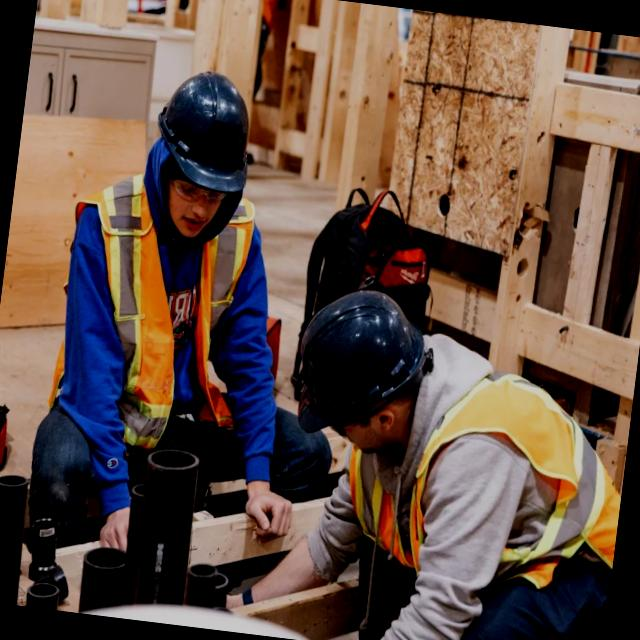goggles: (150, 171, 238, 210)
helmet: (284, 276, 440, 450), (148, 64, 262, 201)
vest: (334, 348, 634, 598), (41, 162, 266, 460)
